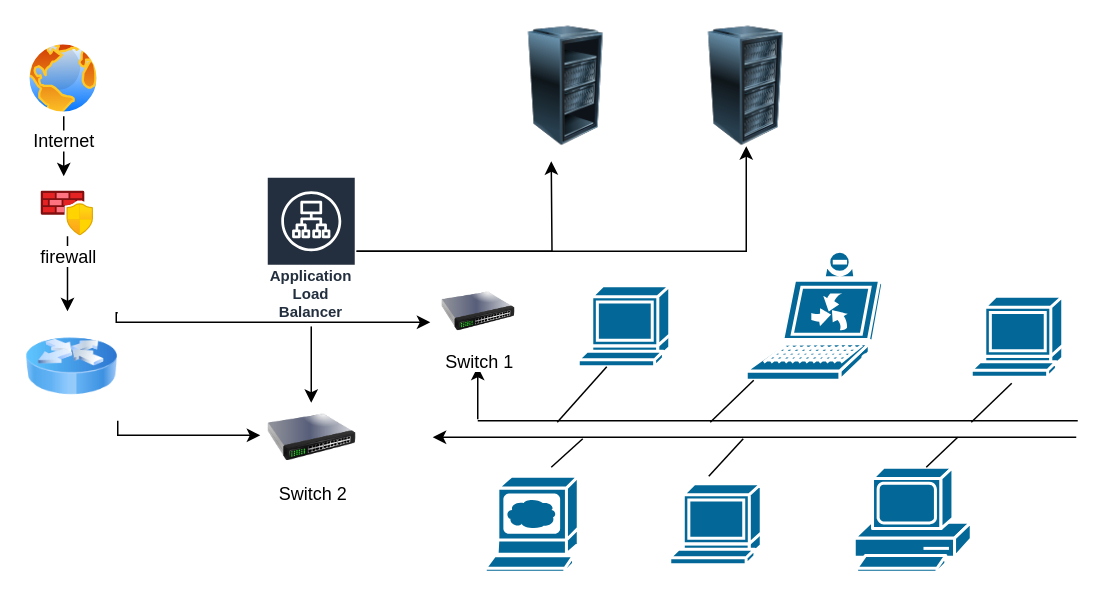
Image size: 1115x599. Some labels were removed from this diagram. Each missing label, with the centre of its shape:
Router: point 71,366
Server 1: point 566,86
Server 2: point 746,86
